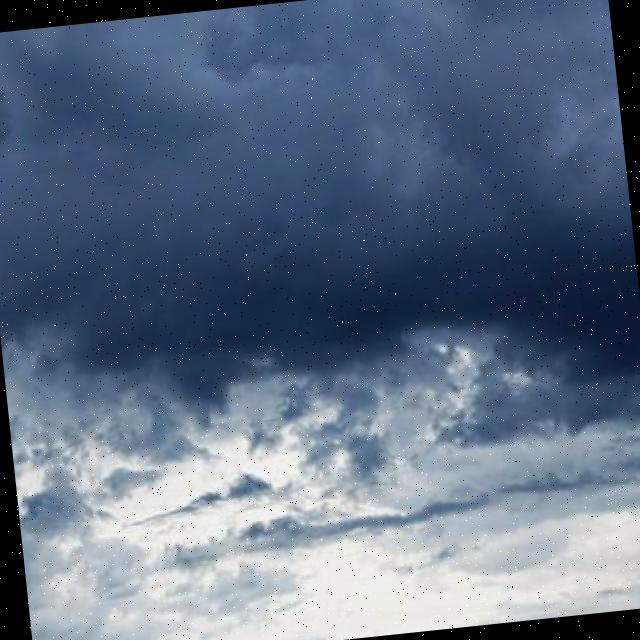Ns: (1, 83, 640, 640)
